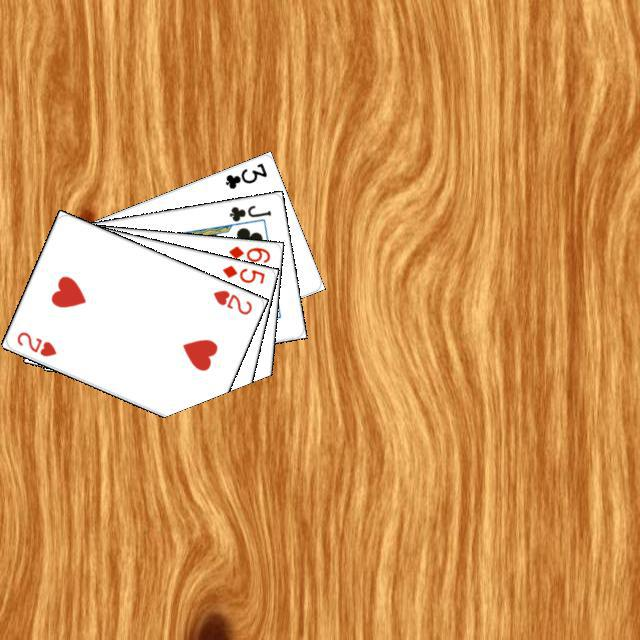2h: (208, 285, 254, 316), (12, 327, 58, 358)
3c: (220, 158, 269, 191)
5d: (217, 260, 266, 286)
6d: (224, 241, 272, 264)
Jc: (224, 200, 273, 223)
